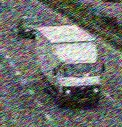truck: (35, 26, 100, 106)
